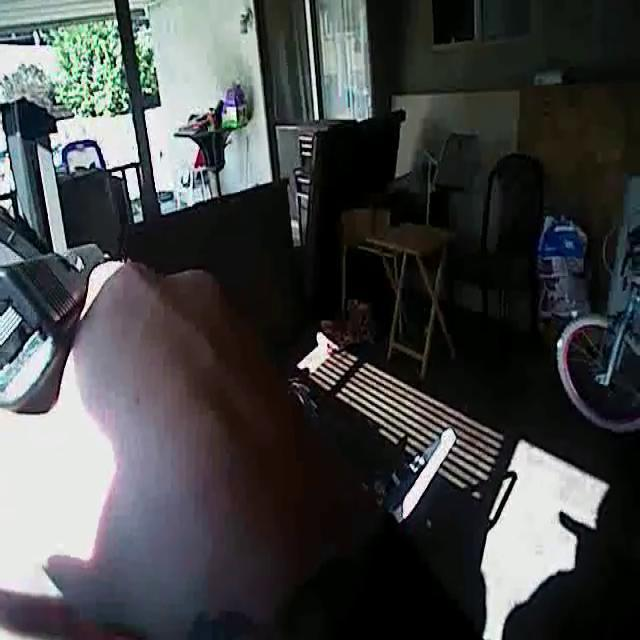gun: (0, 205, 166, 483)
